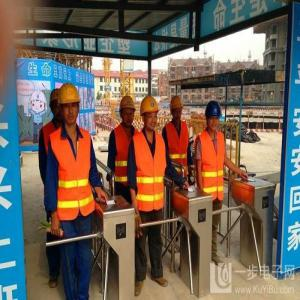blue: (205, 101, 223, 133)
yellow: (59, 83, 81, 128), (141, 96, 161, 133), (120, 96, 136, 127), (169, 96, 184, 124), (49, 89, 60, 120)
